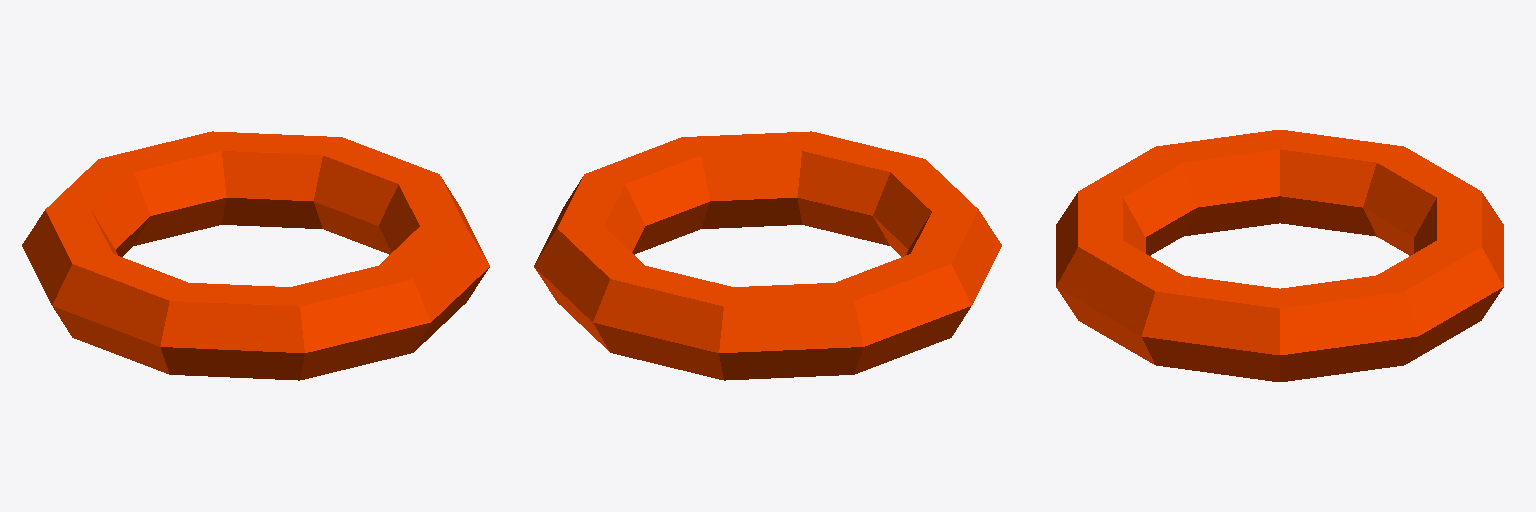
3 renders of one model, left to right at view 1: azimuth 30°, elevation 25°; view 2: azimuth 150°, elevation 25°; view 3: azimuth 270°, elevation 25°, orthographic.
Visible parts, largest first — view 1: Torus; view 2: Torus; view 3: Torus.
Boxes of the visible parts, box(x1,y1,x2,y2) form: Torus: box(22, 131, 489, 380); Torus: box(534, 131, 1001, 380); Torus: box(1056, 130, 1503, 381).
Bounding box in the file's own units: 0.7531 × 0.1304 × 0.7163.
Materials: 1 (1 with a texture image).